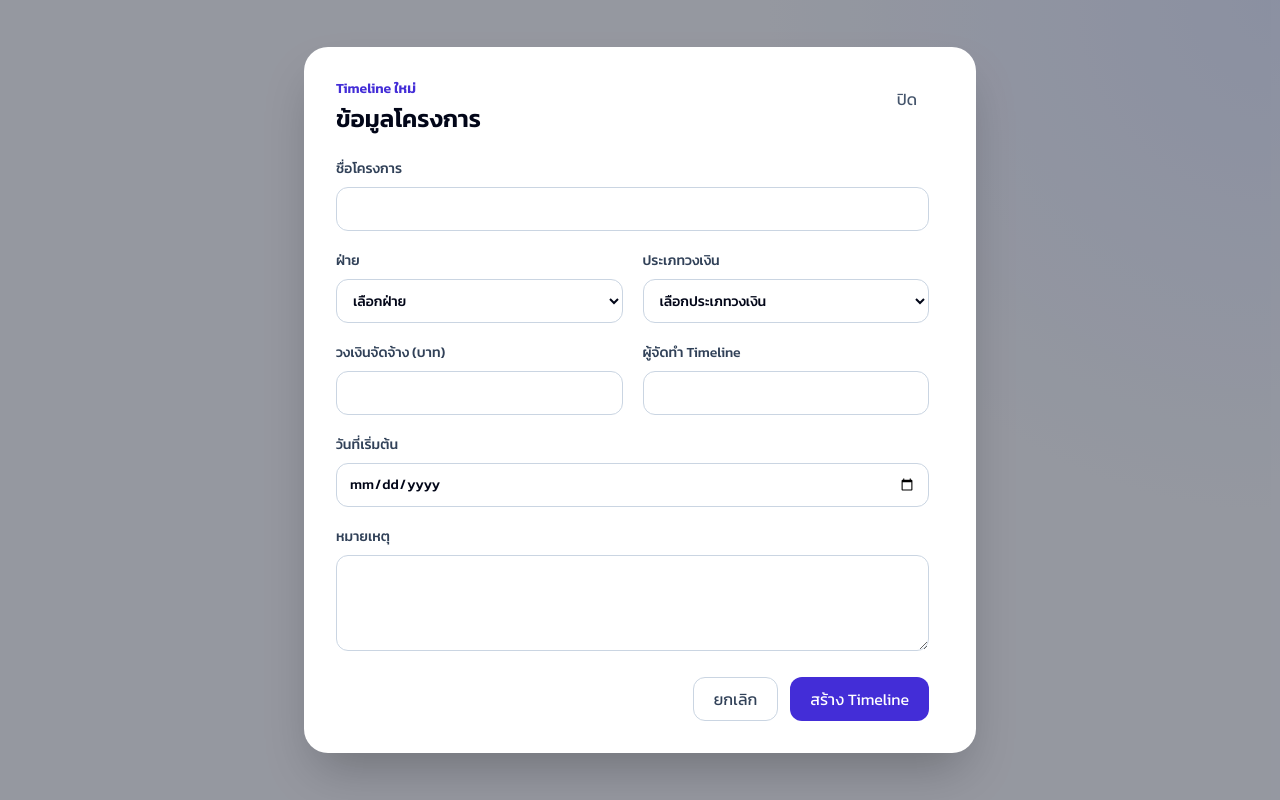
Test case: ProjectForm › shows a warning and does not submit a weekend start
The image size is (1280, 800).
Type "จัดซื้อระบบ" into the field labelled "ชื่อโครงการ" at coordinates (632, 209), box 336,187 -> 929,231
Type "คุณสมชาย" into the field labelled "ผู้จัดทำ Timeline" at coordinates (786, 393), box 642,371 -> 929,415
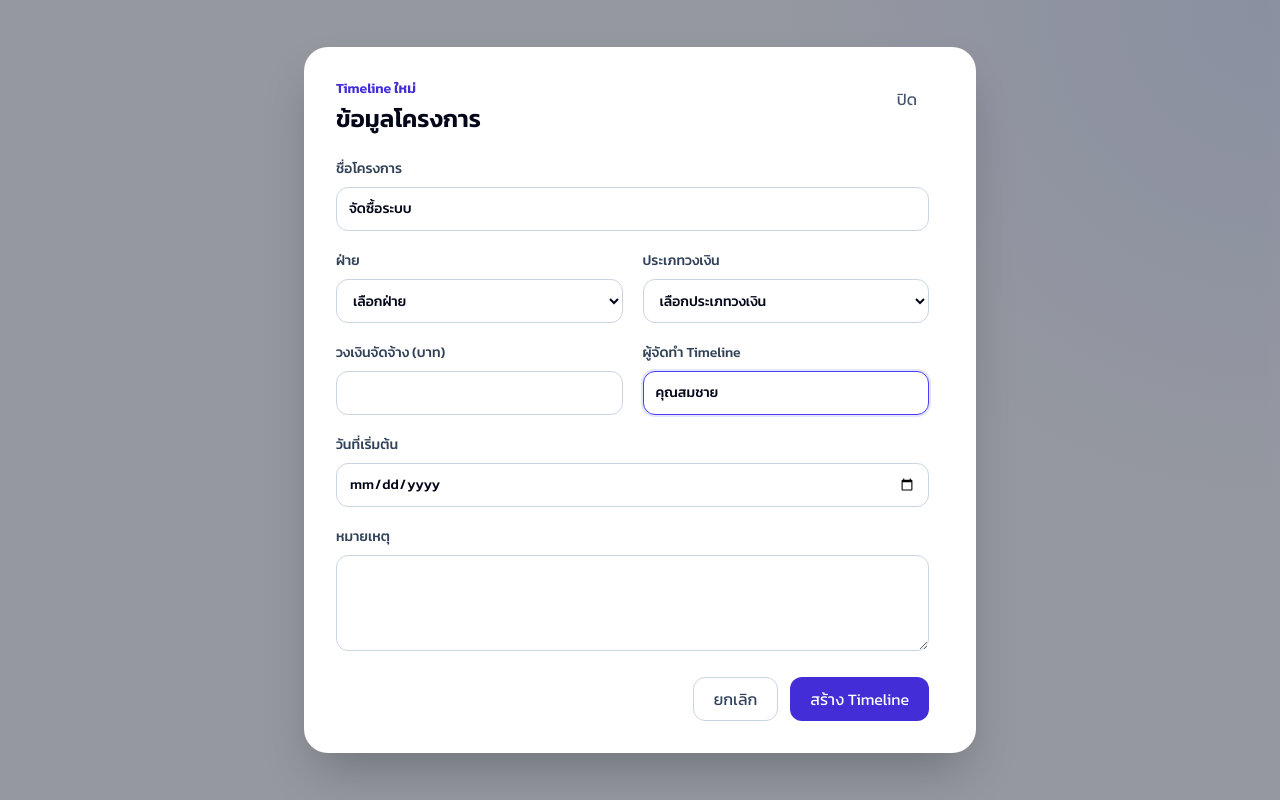
Select "ฝ่ายส่งเสริมการจัดประชุมนานาชาติ" in the dropdown labelled "ฝ่าย" at coordinates (479, 301), box 336,279 -> 622,323
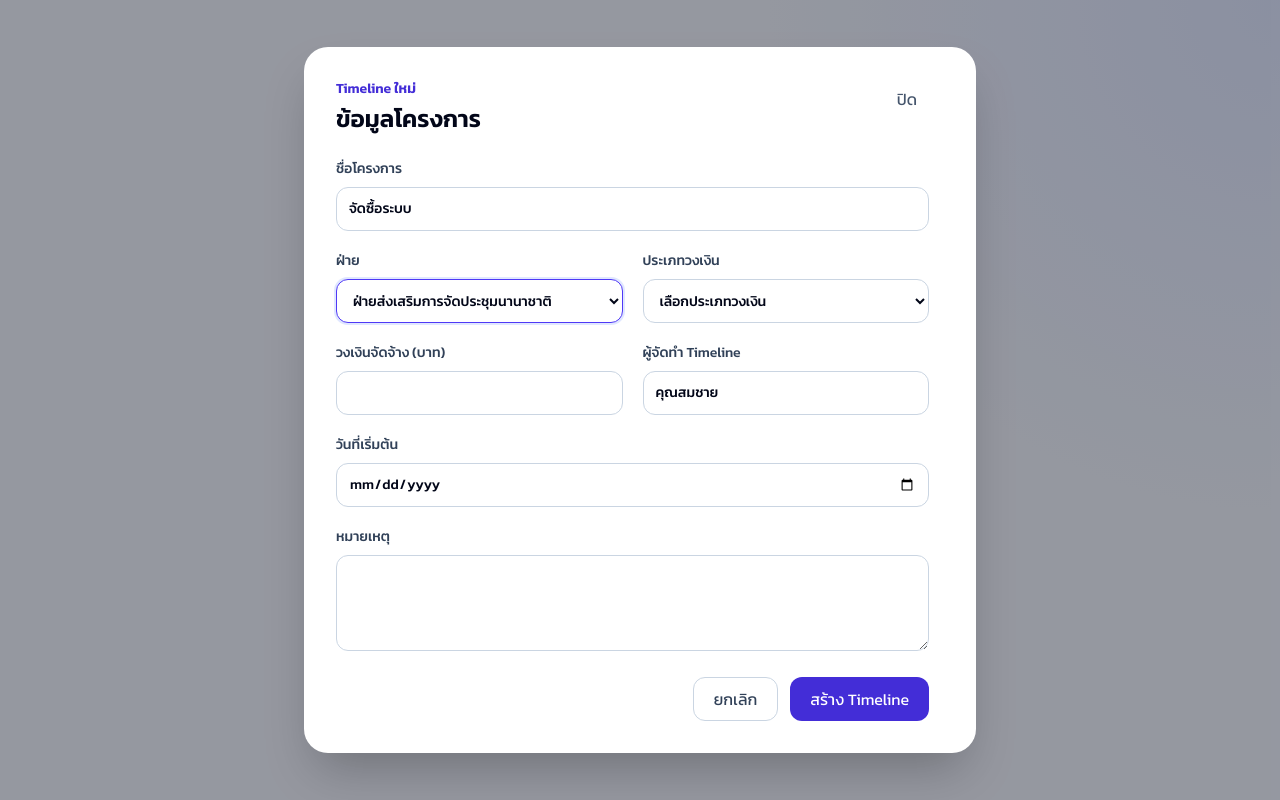
Select "10,000,001–50,000,000 บาท" in the dropdown labelled "ประเภทวงเงิน" at coordinates (786, 301), box 642,279 -> 929,323
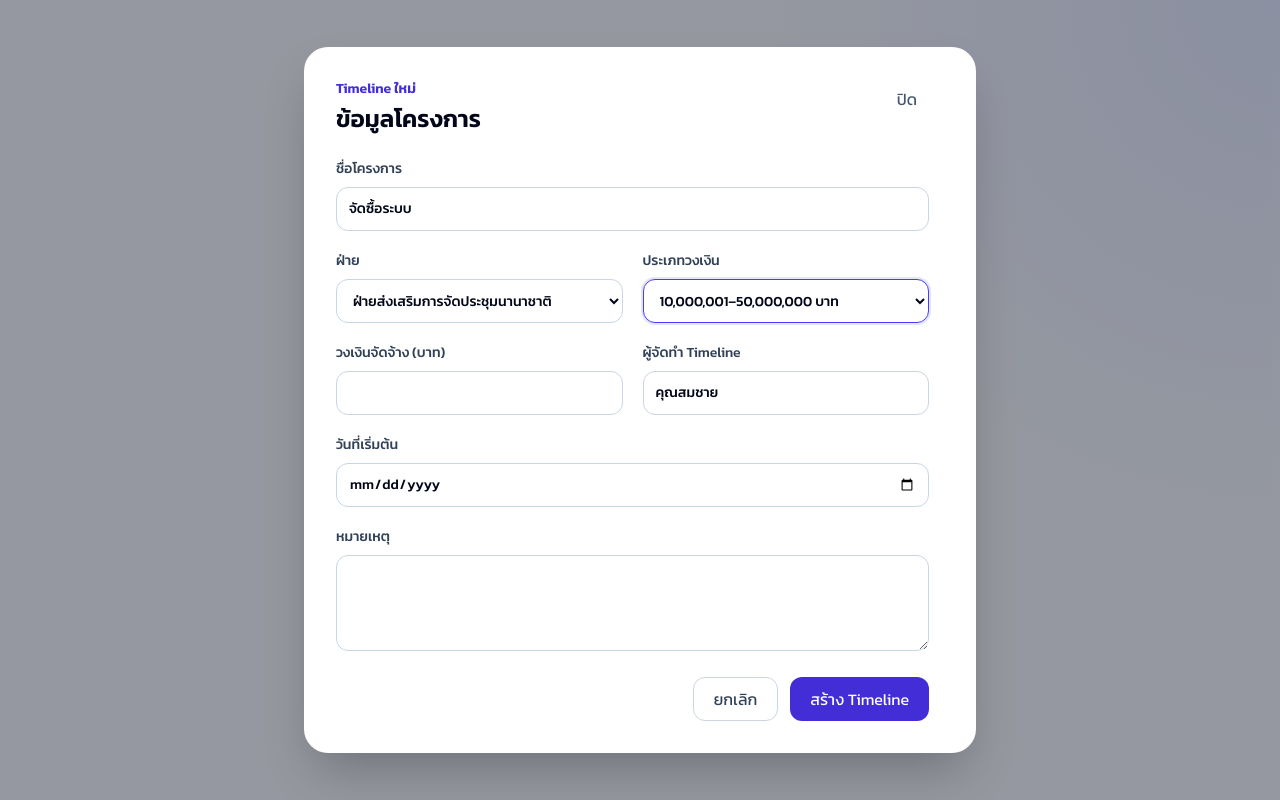
Type "29000000" into the number field labelled "วงเงินจัดจ้าง (บาท)" at coordinates (479, 393), box 336,371 -> 622,415
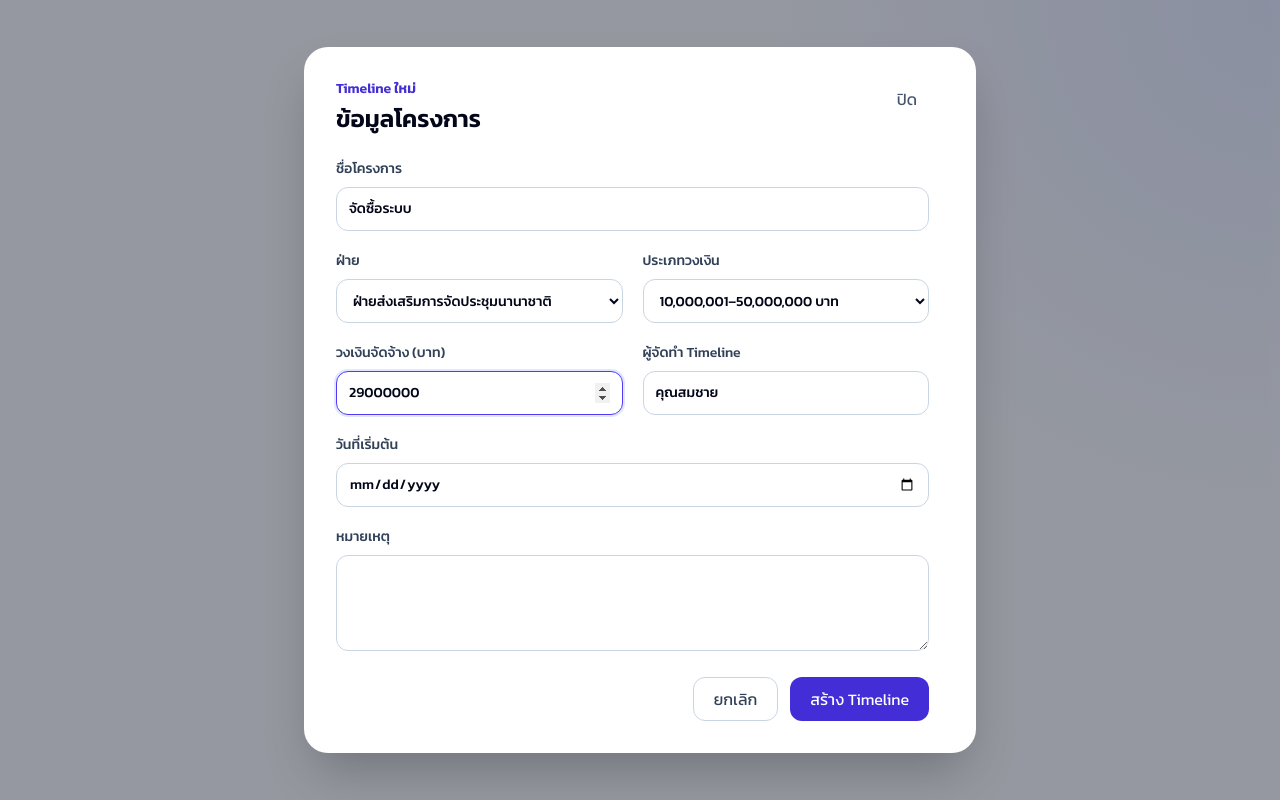
Type "2026-07-11" into the date field labelled "วันที่เริ่มต้น" at coordinates (632, 485), box 336,463 -> 929,507
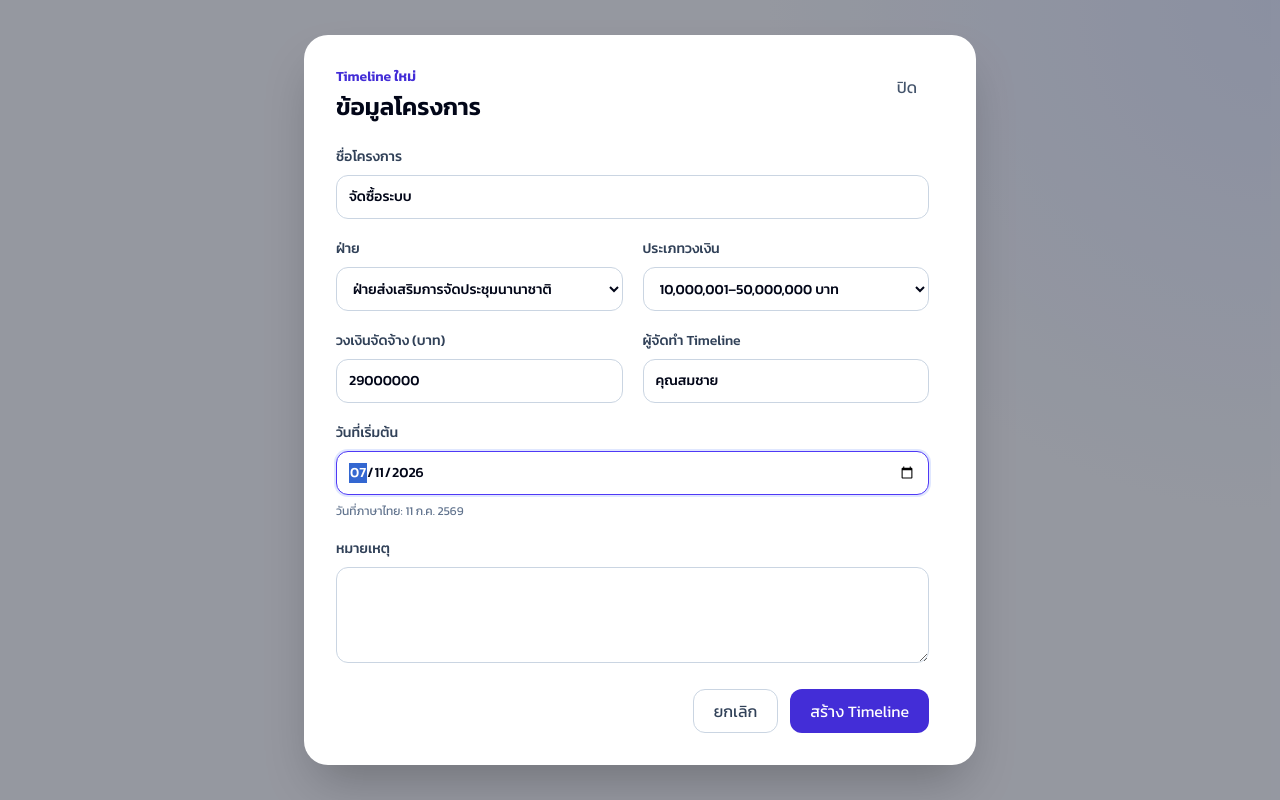
Click the button "สร้าง Timeline" at coordinates (860, 711), box 790,689 -> 929,733
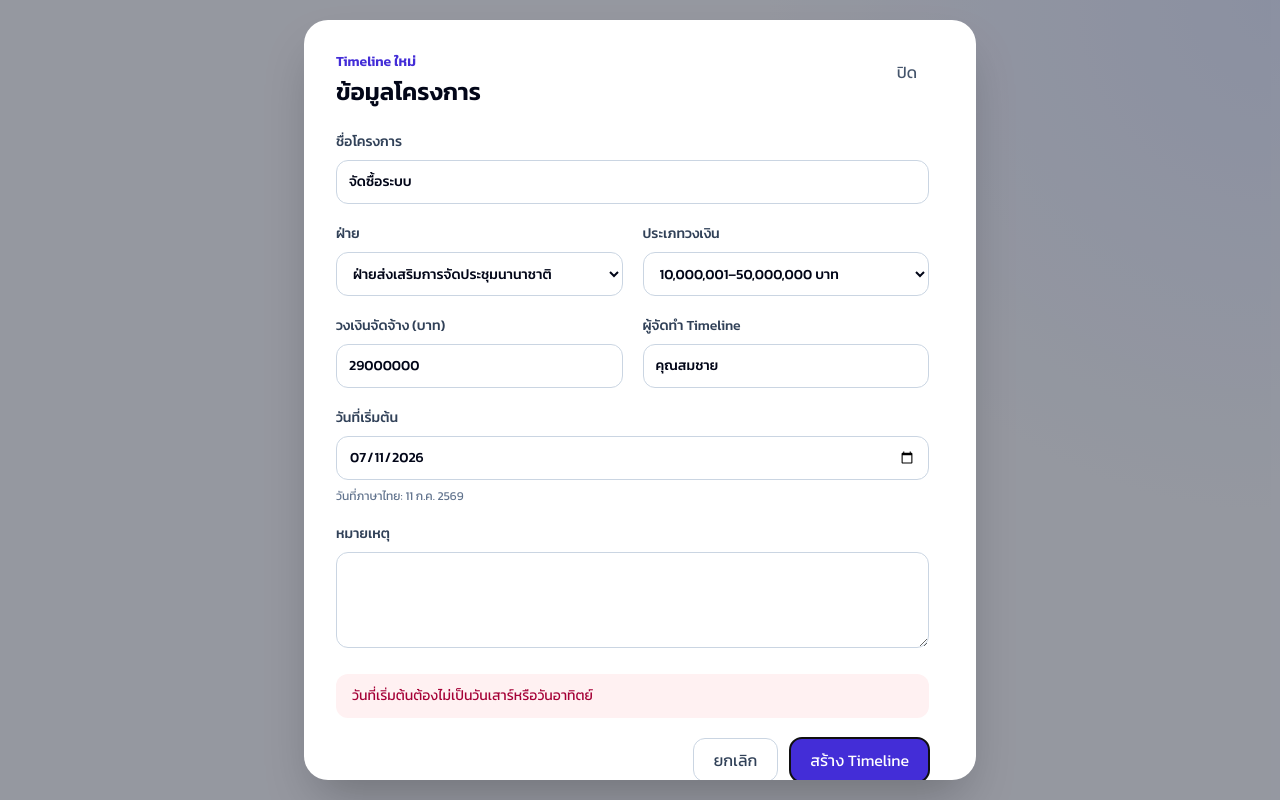
Expected: the message reads "วันที่เริ่มต้นต้องไม่เป็นวันเสาร์หรือวันอาทิตย์", 352,685 -> 593,706
